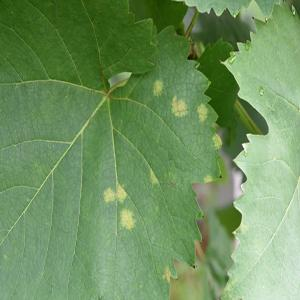Folha: (0, 0, 222, 299)
Fungo: (103, 183, 136, 231), (103, 182, 127, 204), (107, 70, 132, 90), (119, 207, 136, 230), (171, 95, 187, 117), (147, 167, 160, 192), (152, 78, 164, 98), (196, 102, 208, 122), (117, 183, 128, 202), (103, 186, 116, 202), (162, 266, 171, 284), (188, 41, 197, 59), (211, 134, 224, 146), (204, 174, 214, 184)
